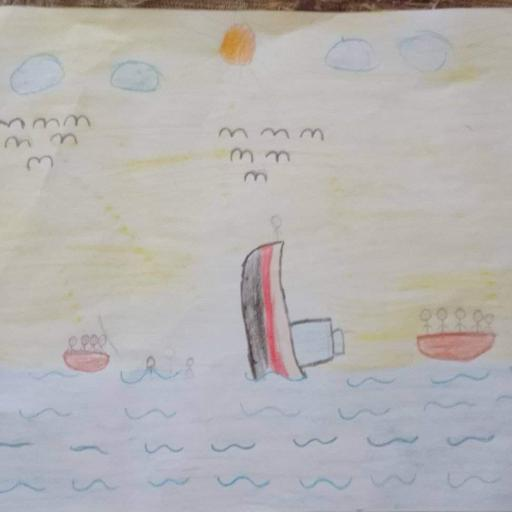person: (412, 298, 512, 347), (56, 323, 126, 362)
